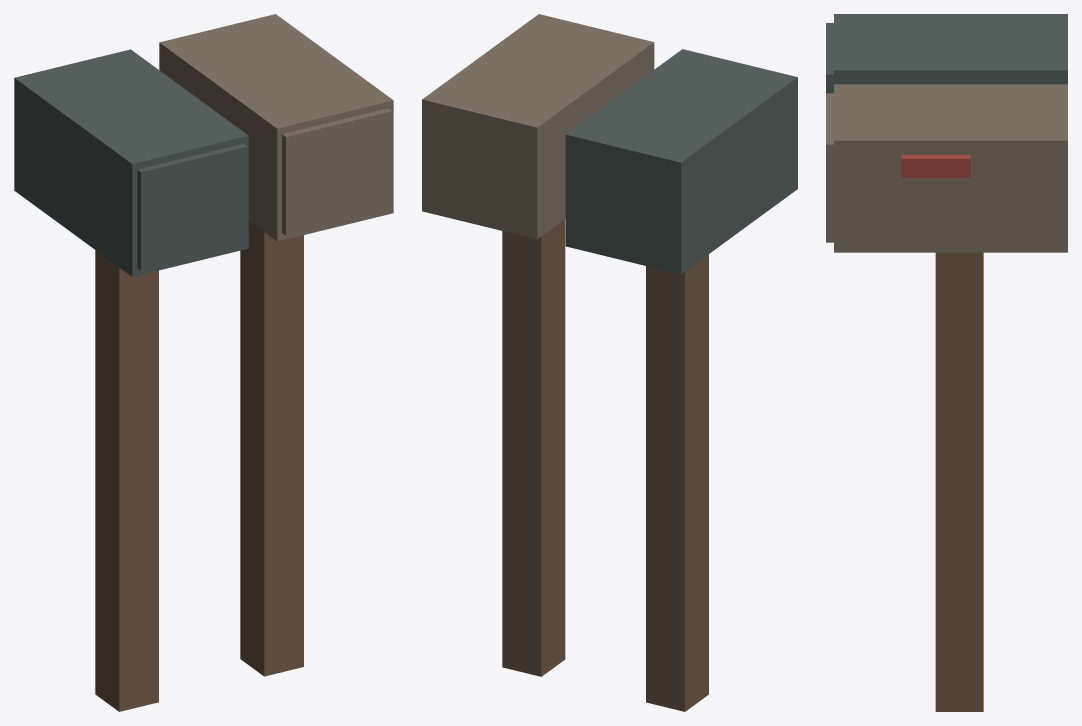
Rendered from rural_mailbox_pair.glb.
3 renders of one model, left to right at view 1: azimuth 30°, elevation 25°; view 2: azimuth 150°, elevation 25°; view 3: azimuth 270°, elevation 25°, orthographic.
Visible parts, largest first — view 1: Mailbox, Post, Post.001, Mailbox.001, Front door, Front door.001; view 2: Mailbox, Mailbox.001, Post.001, Post; view 3: Mailbox.001, Post.001, Mailbox, Mail flag.001, Front door.001, Front door.
Part boxes in pixels (<box>): Mailbox: <box>14,49,248,276</box>; Post: <box>95,250,158,711</box>; Post.001: <box>240,221,303,676</box>; Mailbox.001: <box>159,14,393,241</box>; Front door: <box>137,143,247,270</box>; Front door.001: <box>282,108,392,235</box>; Mailbox: <box>565,49,797,274</box>; Mailbox.001: <box>422,14,654,239</box>; Post.001: <box>502,219,565,676</box>; Post: <box>646,254,708,711</box>; Mailbox.001: <box>834,84,1067,252</box>; Post.001: <box>935,252,983,711</box>; Mailbox: <box>834,14,1067,84</box>; Mail flag.001: <box>901,154,970,177</box>; Front door.001: <box>826,93,833,242</box>; Front door: <box>826,23,833,93</box>.
Bounding box in the file's own units: 0.6345 × 1.33 × 0.495.
